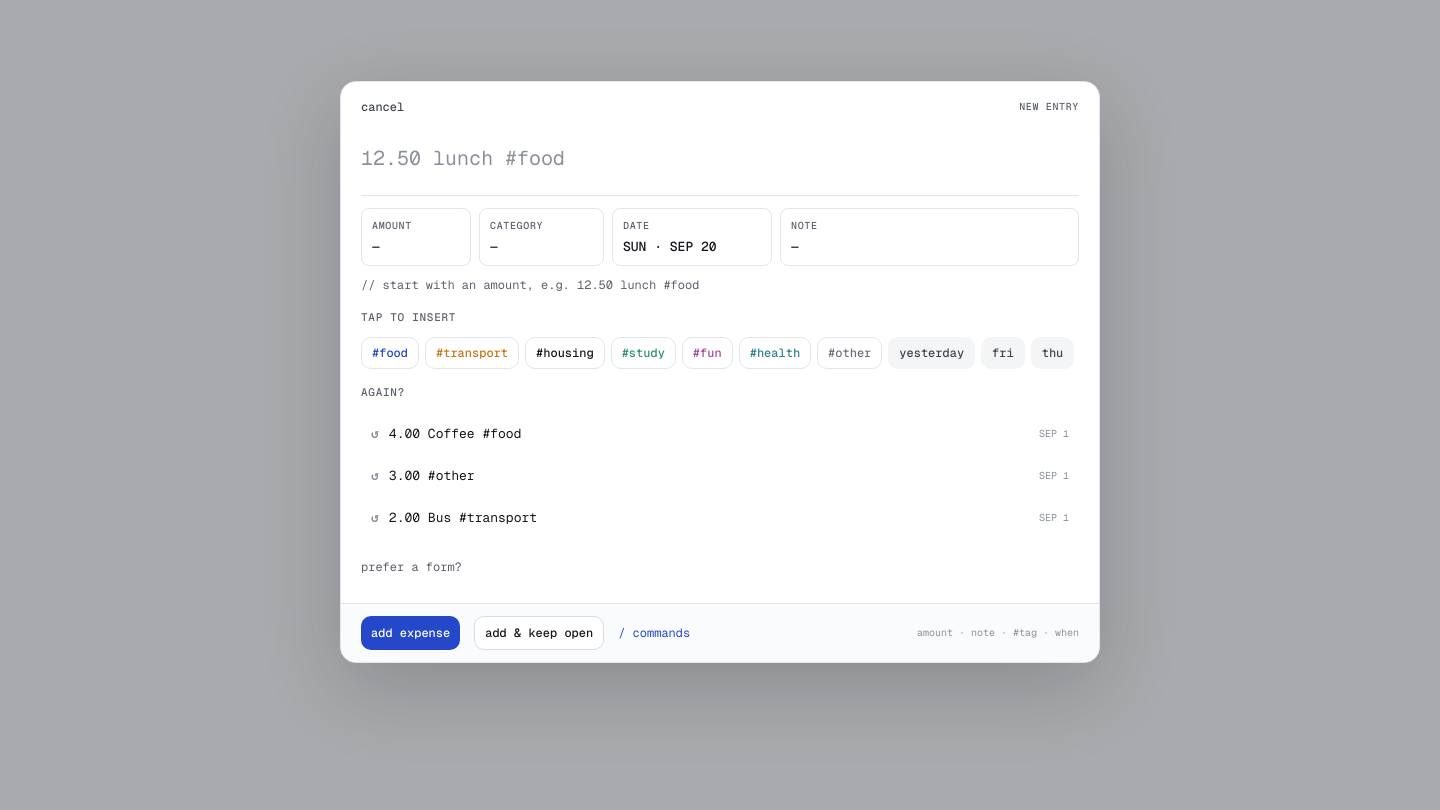
offers the three newest expenses without mutating their order and reuses a selected note
The image size is (1440, 810).
Click the button "↺ 4.00 Coffee #food SEP 1". click: [455, 434]
box: [361,413,1079,455]
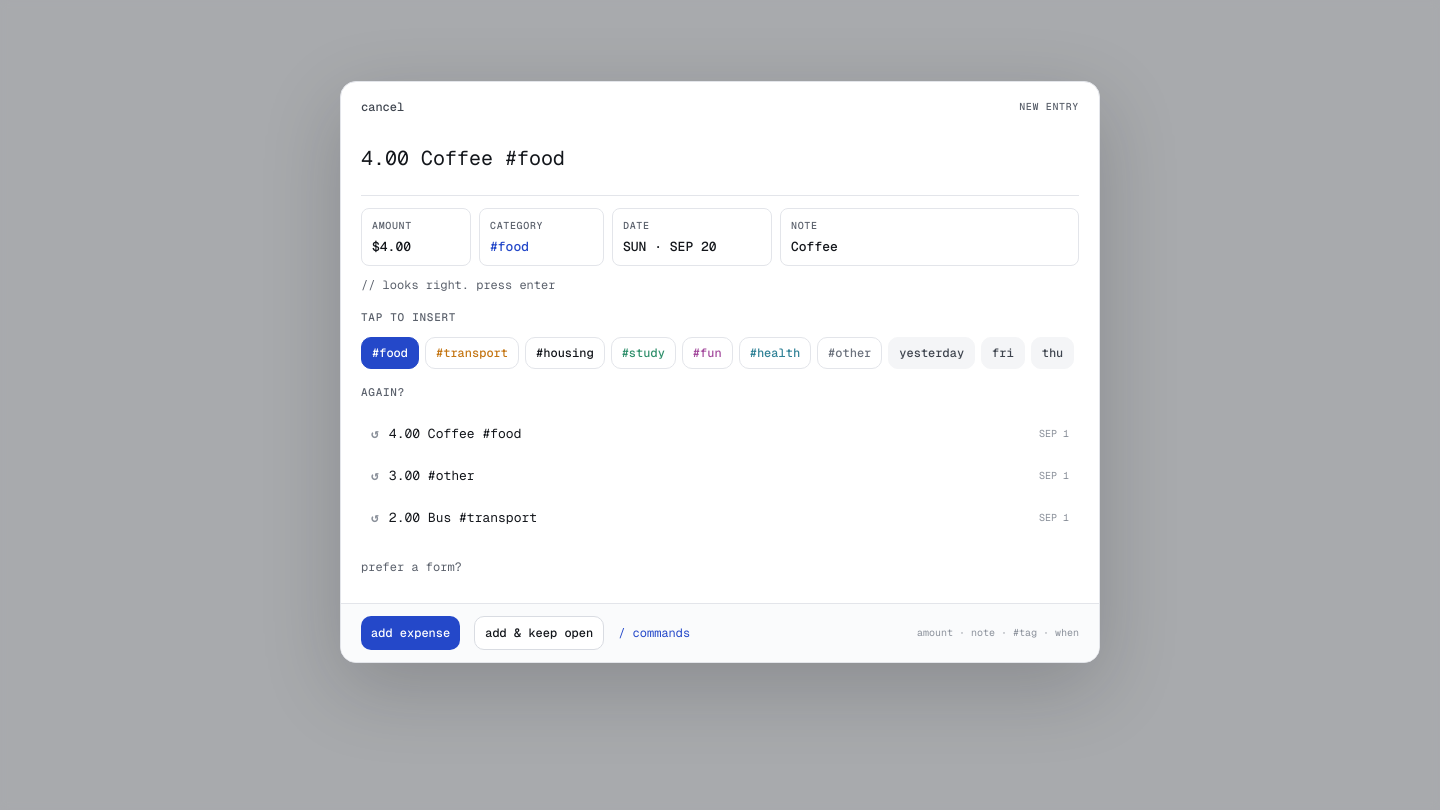
Check: the text box named "TYPE IT LIKE A NOTE" holds "4.00 Coffee #food", box [361,132,1079,196]
Check: the text "$4.00" is shown, box [372,238,411,255]
